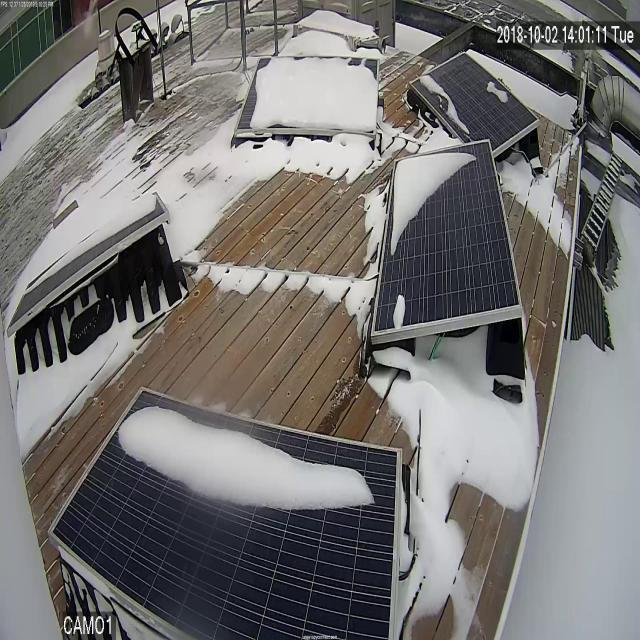Anomaly Solar Panel: (50, 392, 398, 638), (371, 142, 521, 334), (7, 196, 166, 329), (409, 52, 539, 153), (238, 57, 376, 132)
Snow: (113, 401, 377, 514), (22, 194, 154, 298), (233, 57, 376, 135), (387, 149, 481, 262), (409, 70, 472, 139), (389, 290, 411, 327), (484, 79, 510, 104)
